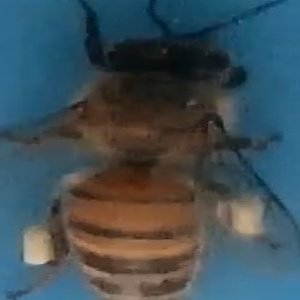bee: (12, 10, 288, 300)
